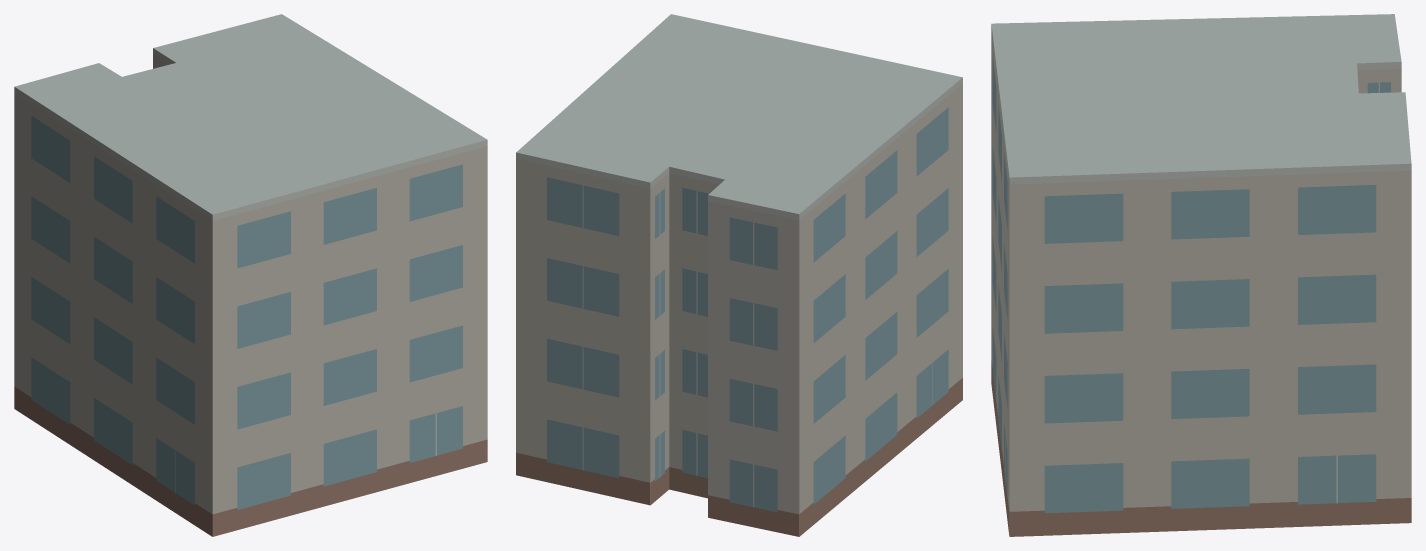
Rendered from survey-upis-32741462.glb.
3 renders of one model, left to right at view 1: azimuth 30°, elevation 25°; view 2: azimuth 150°, elevation 25°; view 3: azimuth 270°, elevation 25°, orthographic. The views are drawn at different scales.
Visible parts, largest first — view 1: survey-upis-32741462.tmp; view 2: survey-upis-32741462.tmp; view 3: survey-upis-32741462.tmp.
Boxes of the visible parts, x1,y1,x2,y2 form: survey-upis-32741462.tmp: (14, 14, 487, 536); survey-upis-32741462.tmp: (516, 14, 962, 536); survey-upis-32741462.tmp: (991, 14, 1411, 536).
Bounding box in the file's own units: 12.22 × 12.5 × 13.26.
